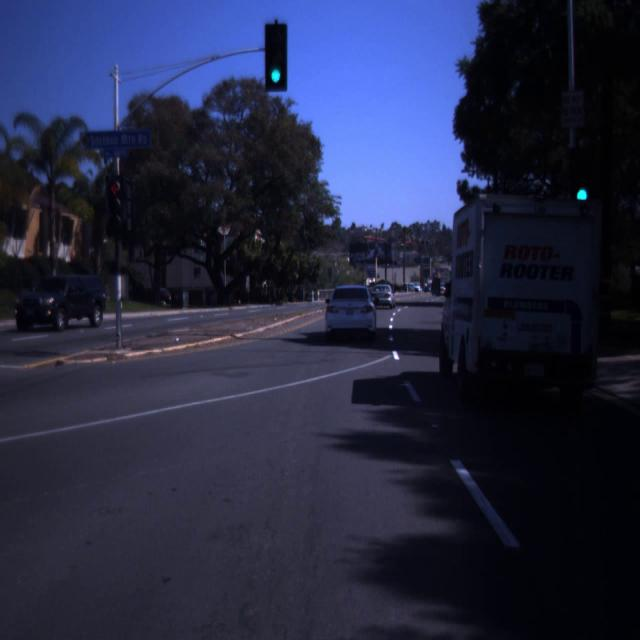kirmizi: (108, 178, 134, 234)
yesil: (265, 24, 287, 92)
